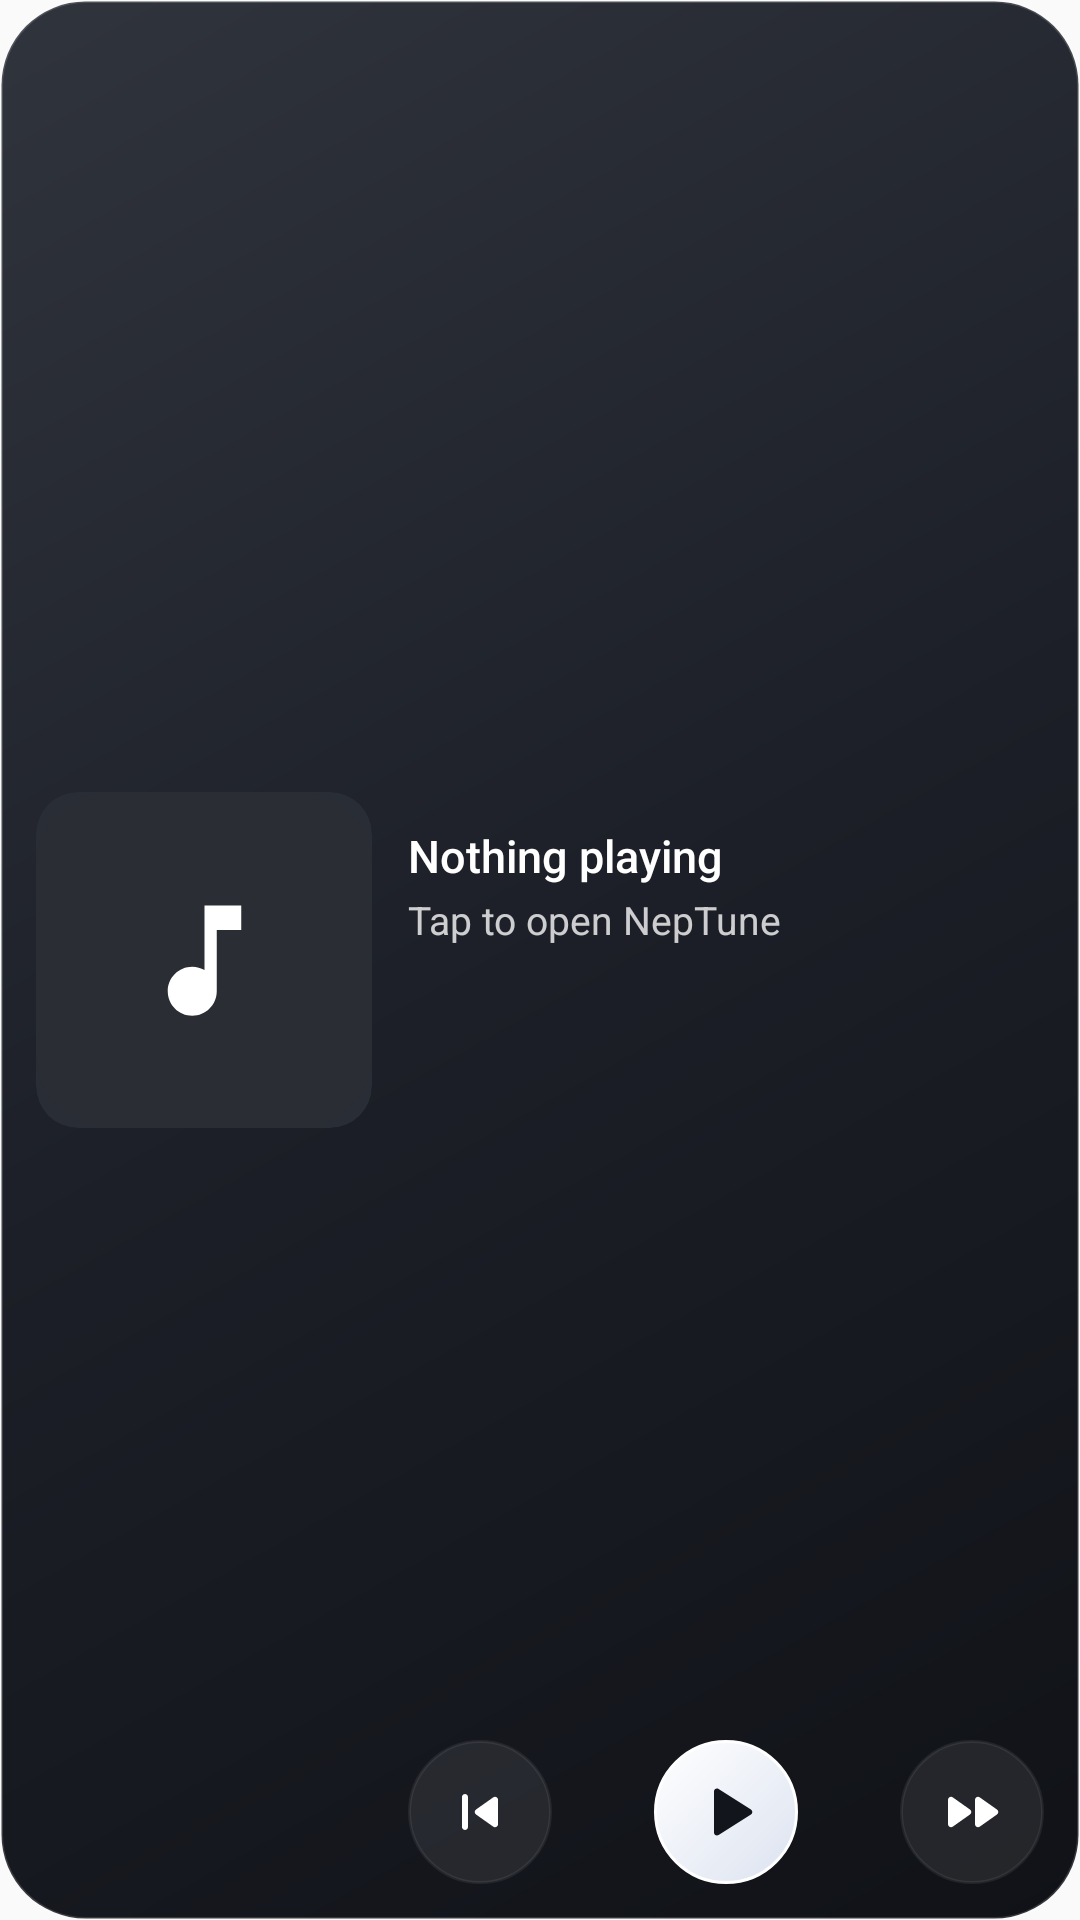

Named icons in this screenshot (1080x1920) and their bounding boxes, (x1, y1, x2, y2):
Next: (900, 1740, 1044, 1884)
Play: (654, 1740, 798, 1884)
Previous: (408, 1740, 552, 1884)
